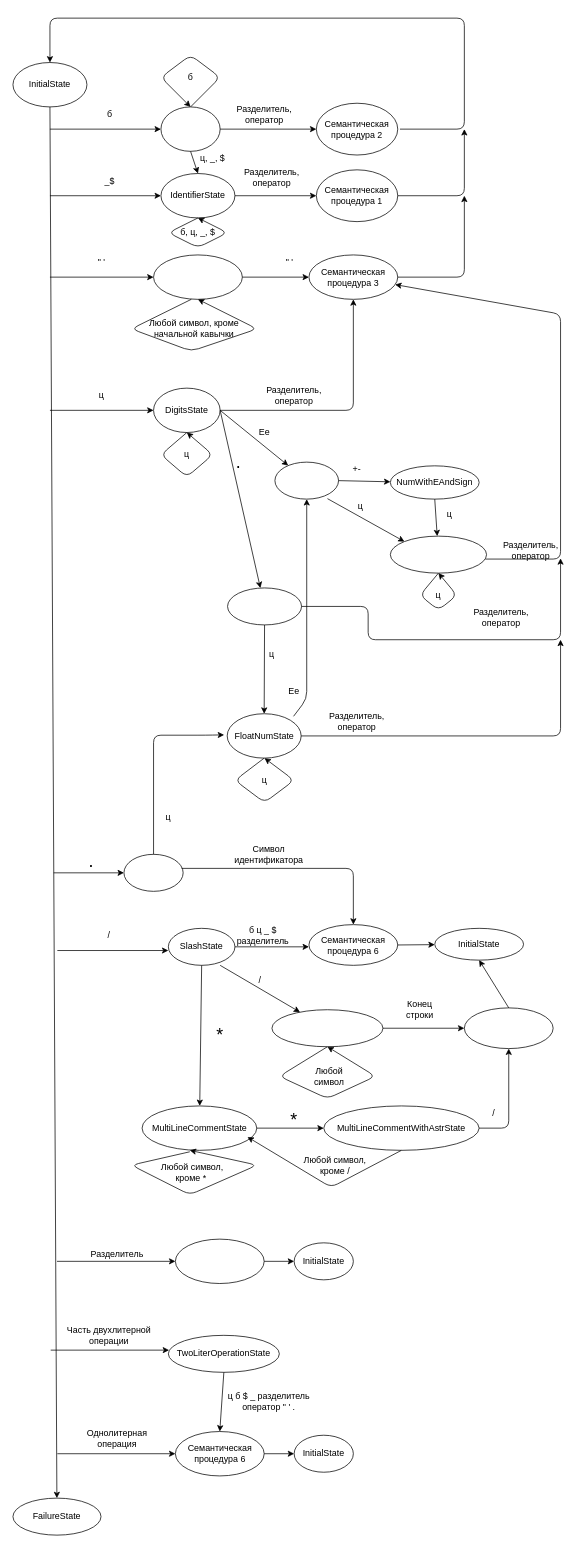
Image size: 579x1548. Some labels were removed from this diagram. Each missing label, with the centre of its shape:
DigitsWithPoint: [264,606]
LettersState: [190,128]
NumWihEAndPow: [438,554]
NumWithE: [306,480]
OneLineCommentState: [327,1028]
PointState: [153,872]
StringConstState: [197,276]
Семантическая процедура 4: [219,1261]
Семантическая процедура 5: [508,1028]
